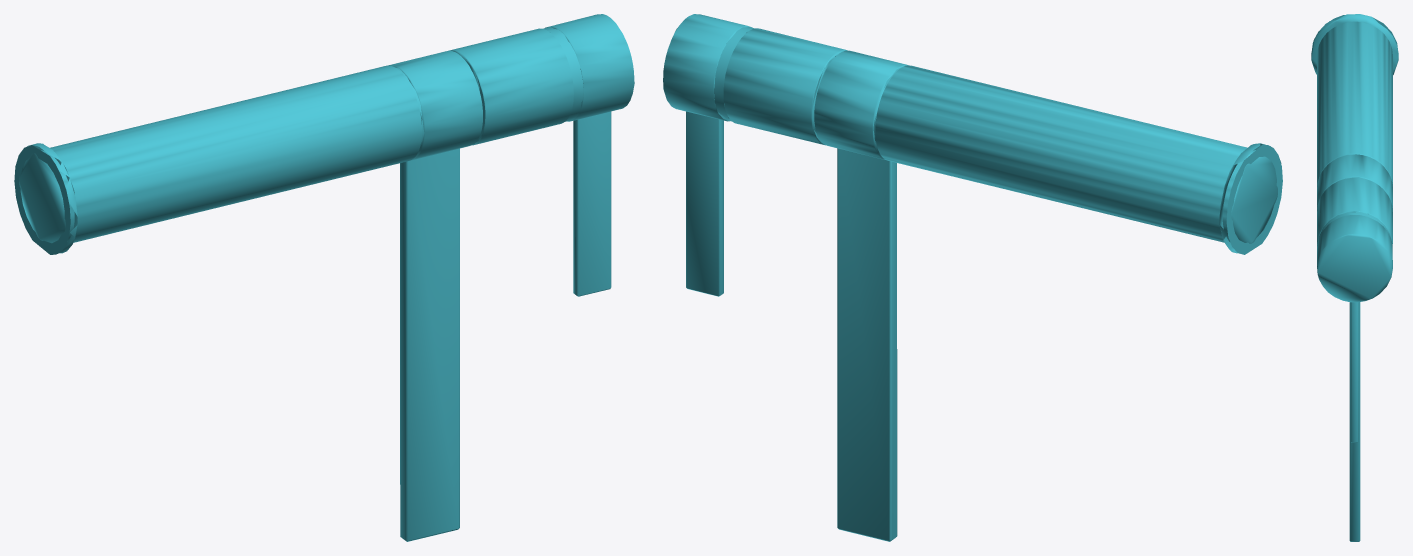
3 renders of one model, left to right at view 1: azimuth 30°, elevation 25°; view 2: azimuth 150°, elevation 25°; view 3: azimuth 270°, elevation 25°, orthographic. The views are drawn at different scales.
Parts seen in each view (by area): view 1: Renderer Node; view 2: Renderer Node; view 3: Renderer Node.
Boxes of the visible parts, <box> form: Renderer Node: <box>14,14,634,541</box>; Renderer Node: <box>663,14,1282,541</box>; Renderer Node: <box>1311,14,1398,541</box>.
Bounding box in the file's own units: 0.7714 × 0.6222 × 0.1327.
Materials: 1 (1 with a texture image).
